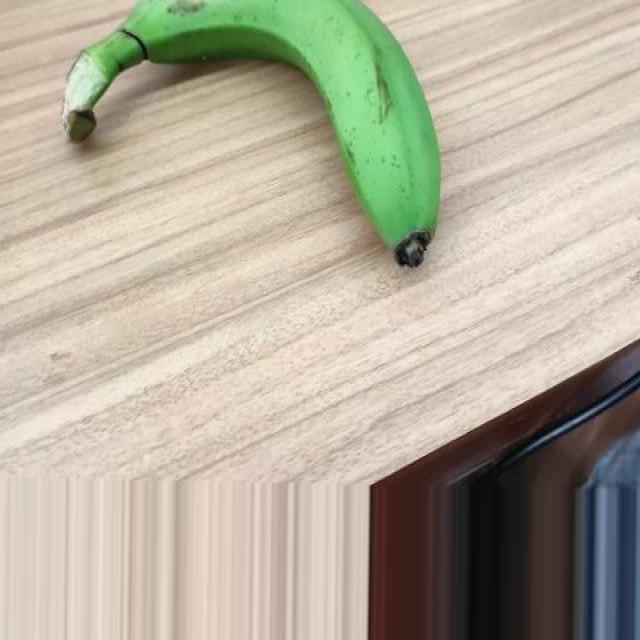Unripe: (62, 0, 442, 268)
